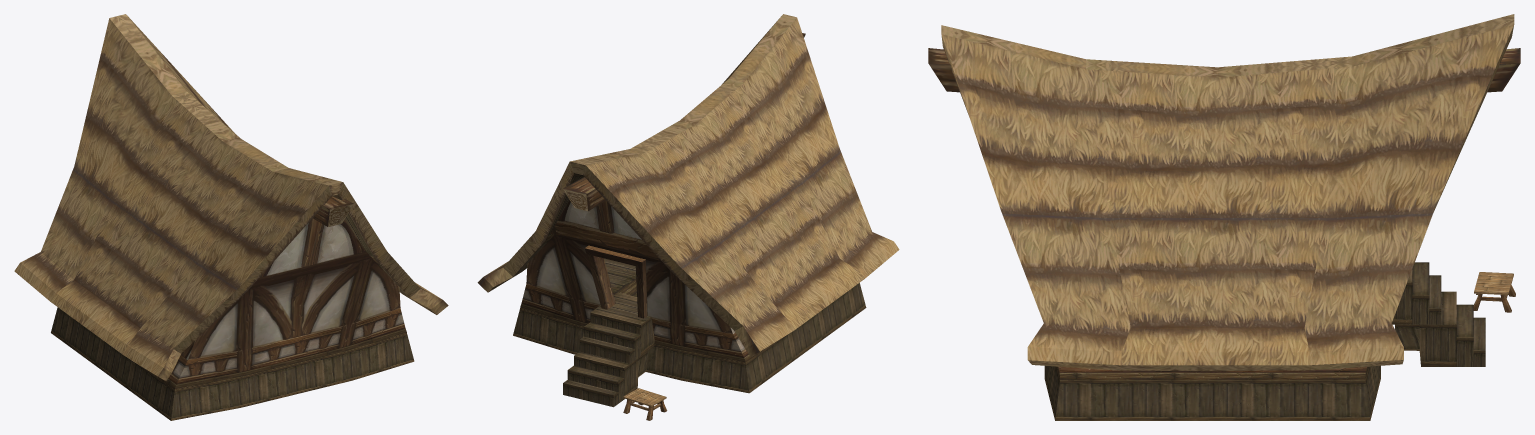
Rendered from clubhouse.glb.
The picture shows the model from 3 angles, left to right: view 1: azimuth 30°, elevation 25°; view 2: azimuth 150°, elevation 25°; view 3: azimuth 270°, elevation 25°; orthographic projection. The views are drawn at different scales.
Visible parts, largest first — view 1: clubhouse_wowstyle; view 2: clubhouse_wowstyle, clubhouse_wowstyle.001; view 3: clubhouse_wowstyle, clubhouse_wowstyle.001.
Boxes of the visible parts, bbox=[...] form: clubhouse_wowstyle: bbox=[14, 14, 448, 420]; clubhouse_wowstyle: bbox=[477, 14, 899, 407]; clubhouse_wowstyle.001: bbox=[623, 388, 667, 420]; clubhouse_wowstyle: bbox=[928, 14, 1520, 420]; clubhouse_wowstyle.001: bbox=[1473, 272, 1515, 312].
Bounding box in the file's own units: 12.73 × 10.56 × 17.12.
7 materials, 7 textured.
